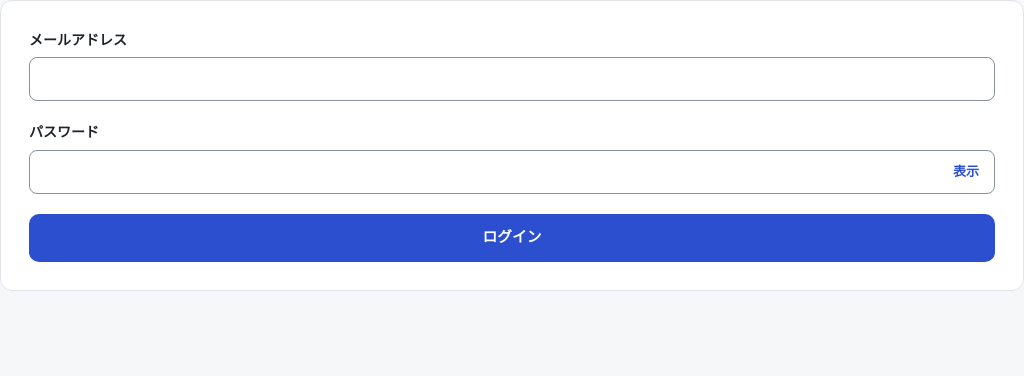
it: LoginForm › 失敗の文を、フォームの上の alert に出し、入力したメールは残す
Click the button "ログイン".
click(512, 238)  # box top-left (29, 214), bottom-right (995, 262)
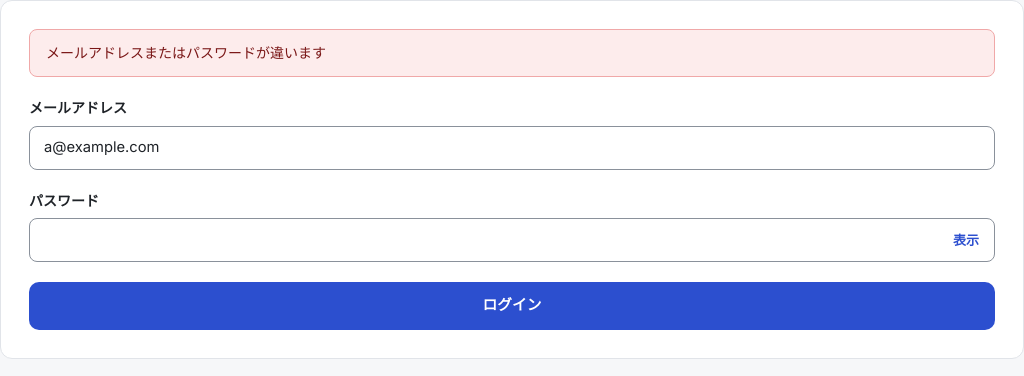
Expected: the password field labelled "パスワード" is empty, top-left (29, 218), bottom-right (995, 262)
Expected: the message reads "メールアドレスまたはパスワードが違います", top-left (46, 44), bottom-right (326, 61)
Expected: the field labelled "メールアドレス" holds "a@example.com", top-left (29, 126), bottom-right (995, 170)
